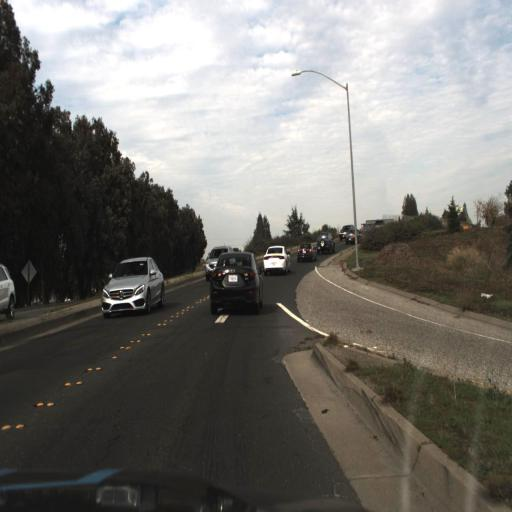car: (100, 257, 165, 320), (206, 248, 263, 312), (0, 255, 17, 323), (261, 240, 292, 274), (263, 242, 292, 276), (204, 244, 227, 280), (203, 243, 223, 284), (313, 227, 334, 259), (294, 240, 314, 266), (345, 223, 365, 247)
